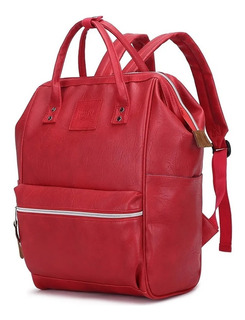cartera: (13, 14, 233, 300)
